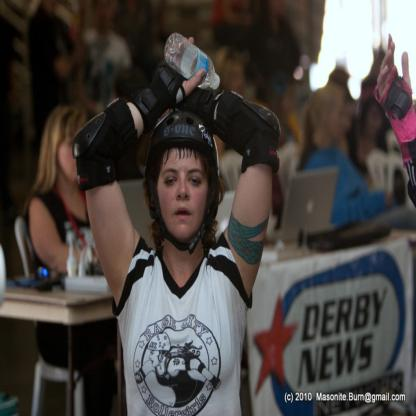Helmet: (135, 105, 226, 262)
